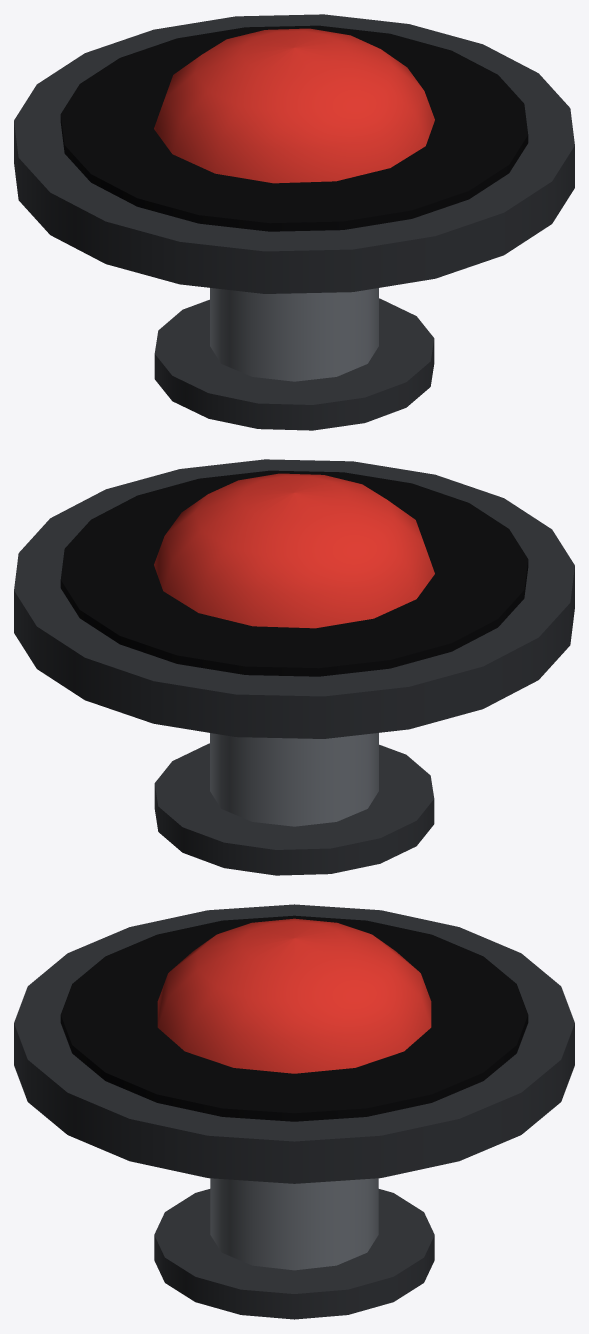
Rendered from tech_holotable.glb.
The picture shows the model from 3 angles, top to bottom: view 1: azimuth 30°, elevation 25°; view 2: azimuth 150°, elevation 25°; view 3: azimuth 270°, elevation 25°; orthographic projection.
Visible parts, largest first — view 1: sw5e_int_tech_holotable; view 2: sw5e_int_tech_holotable; view 3: sw5e_int_tech_holotable.
Part boxes in pixels (bbox=[...]): sw5e_int_tech_holotable: bbox=[14, 14, 574, 430]; sw5e_int_tech_holotable: bbox=[14, 459, 574, 875]; sw5e_int_tech_holotable: bbox=[14, 904, 574, 1319].
Bounding box in the file's own units: 1.2 × 0.76 × 1.2.
